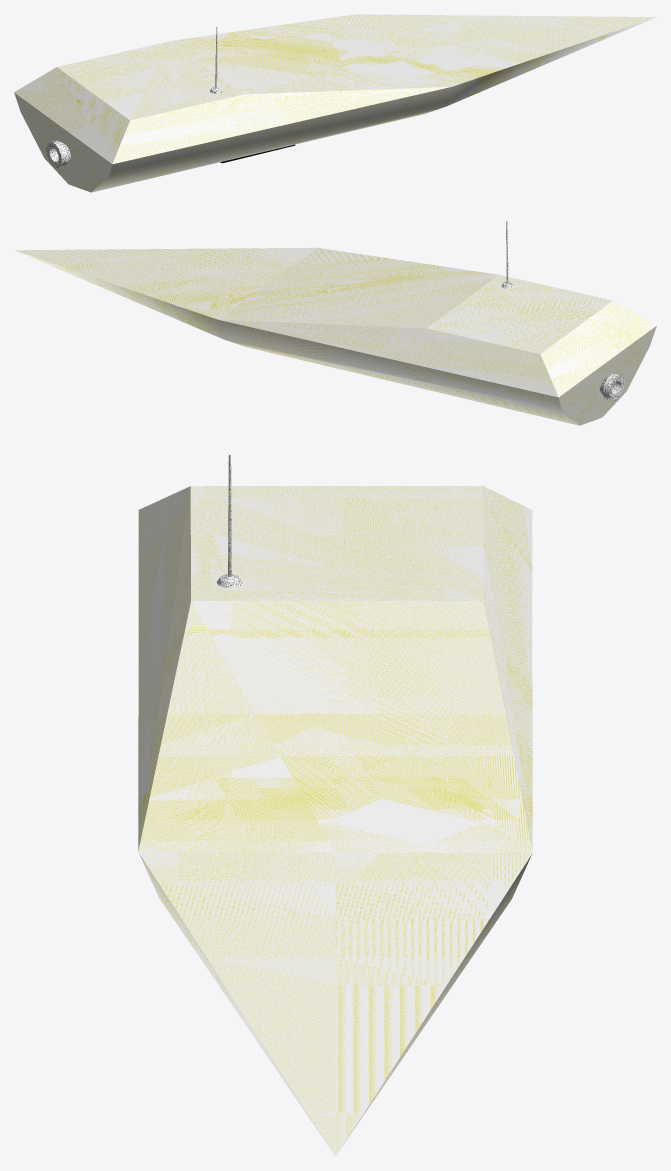
The model's file is emily2.dae.
The picture shows the model from 3 angles, top to bottom: view 1: azimuth 30°, elevation 25°; view 2: azimuth 150°, elevation 25°; view 3: azimuth 270°, elevation 25°; orthographic projection. The views are drawn at different scales.
Parts seen in each view (by area): view 1: SketchUp (×2); view 2: SketchUp (×2); view 3: SketchUp.
Part boxes in pixels (left/top/right/bottom): SketchUp (×2): left=14, top=14, right=656, bottom=192; SketchUp (×2): left=15, top=247, right=656, bottom=425; SketchUp: left=138, top=486, right=532, bottom=1156.
Size of the model in its own units: 55.44 by 15.7 by 13.18.
